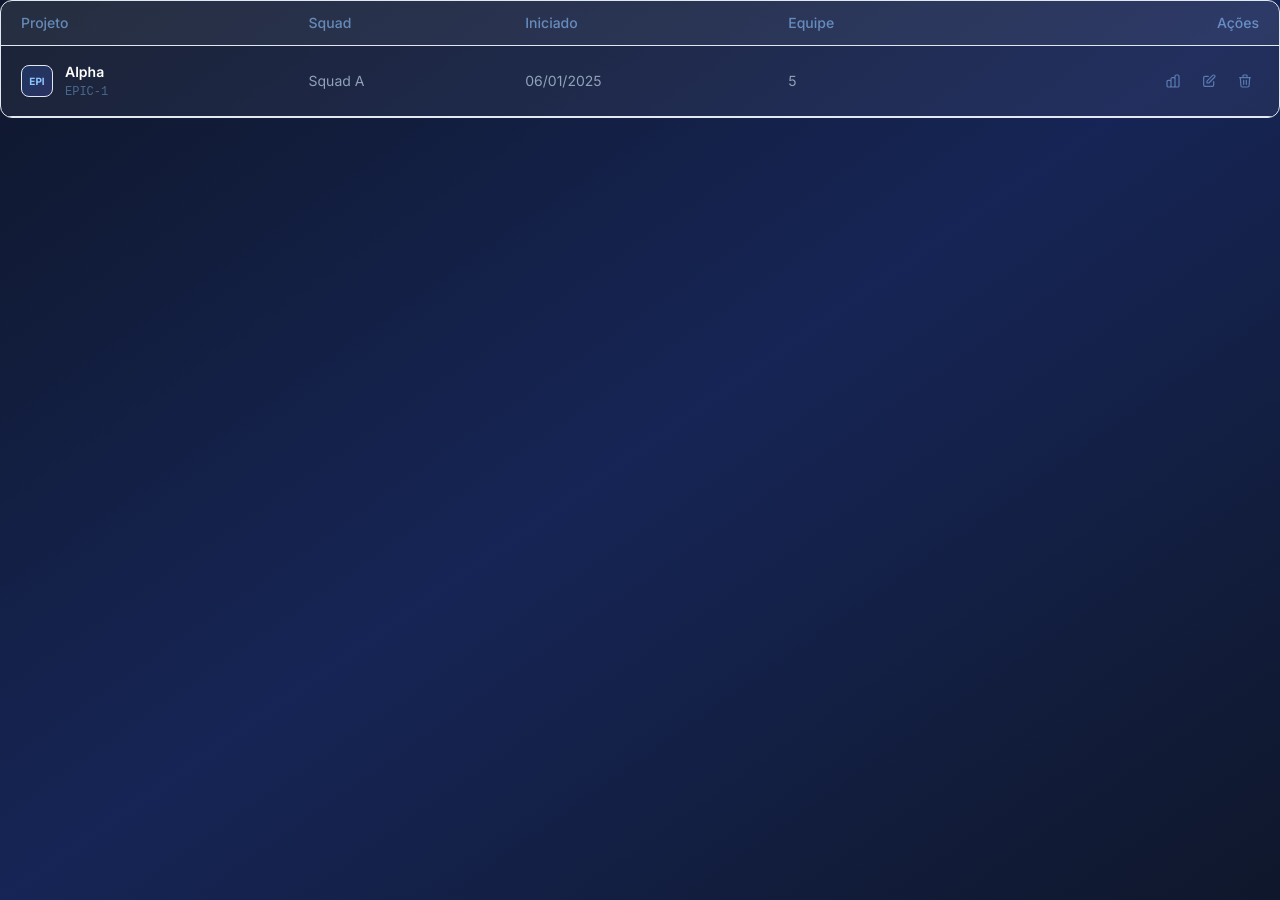
Test case: ProjectListClient — with projects › cancels delete when No is clicked
Click the button with id "delete-project-1" at (1245, 81), box [1231, 67, 1259, 95]
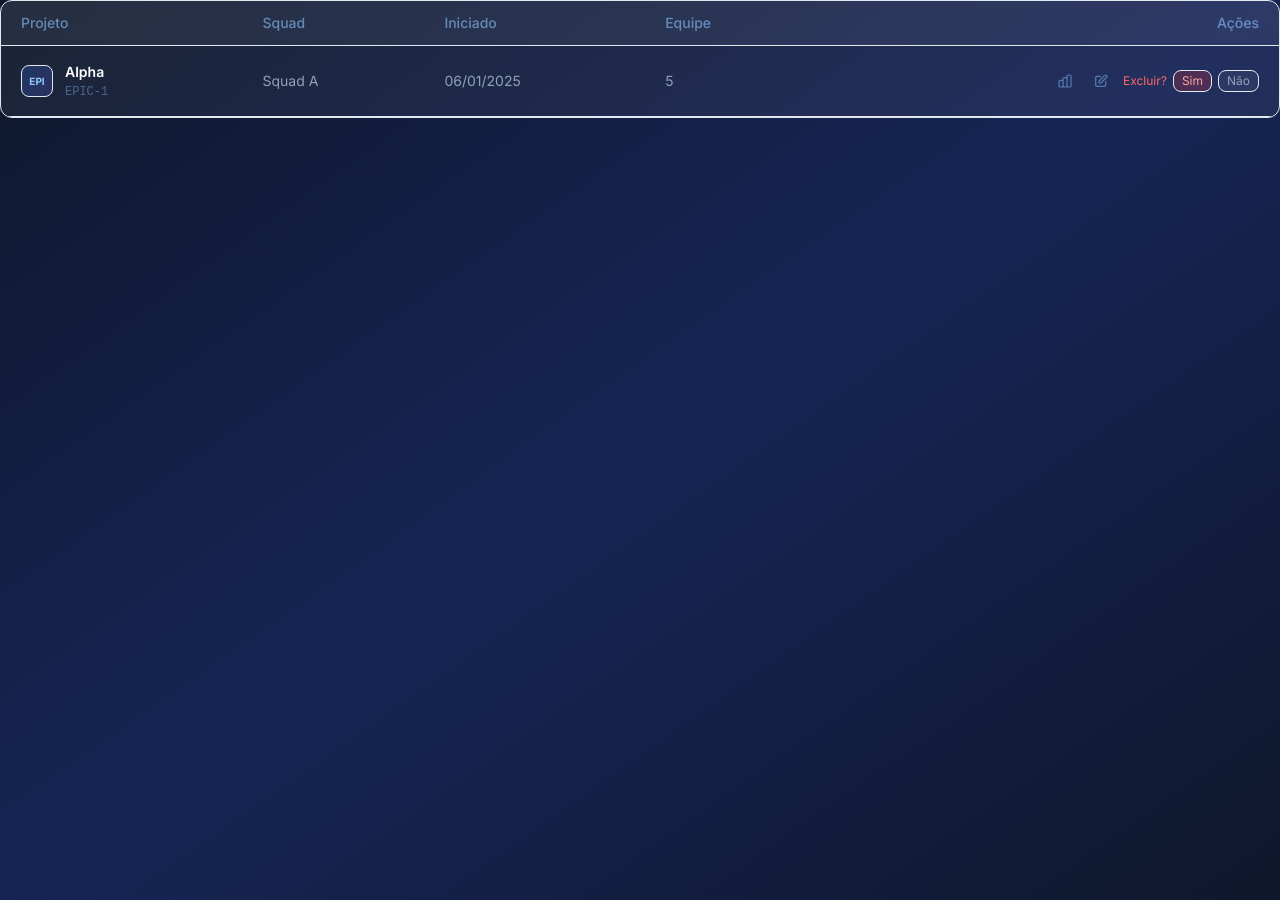
Click the button "Não" at (1238, 81), box [1218, 70, 1259, 92]
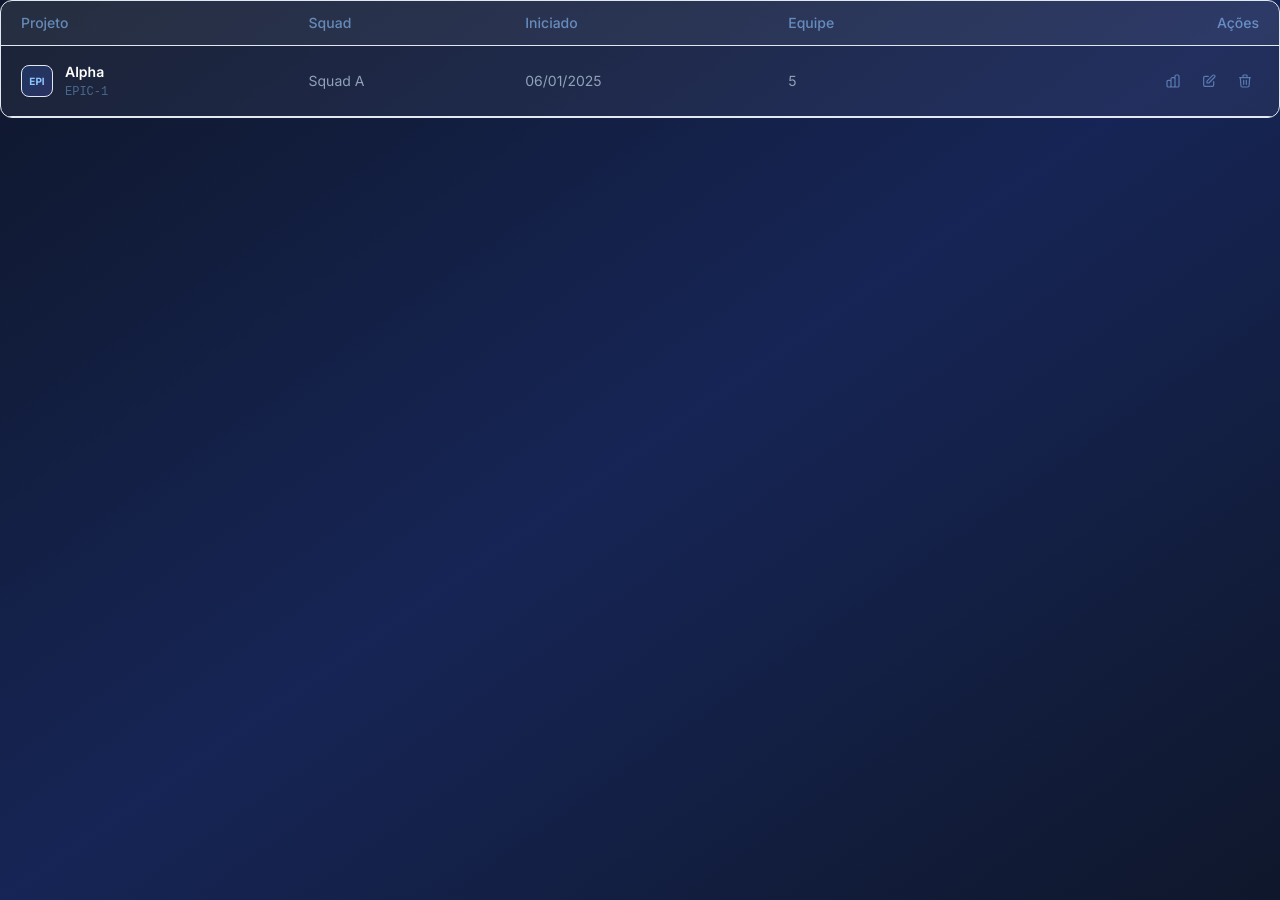
Now the text "Excluir?" is gone
